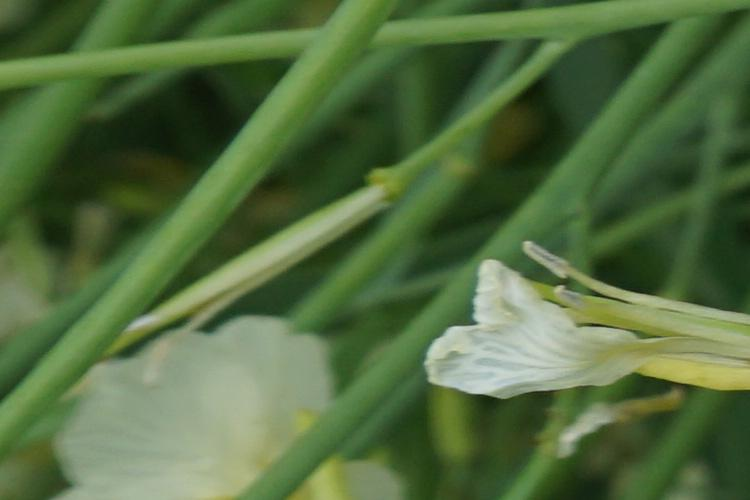white: (68, 324, 410, 500), (420, 247, 744, 422)
